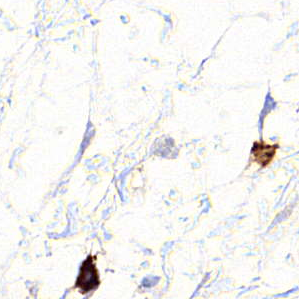Lymphocyte: (75, 255, 103, 292)
